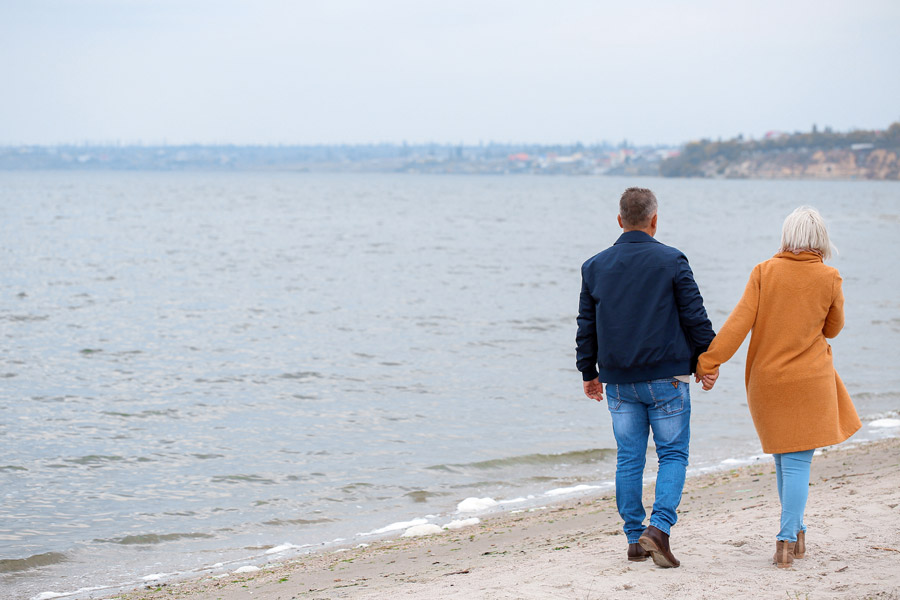female: (711, 204, 856, 571)
male: (572, 185, 716, 570)
